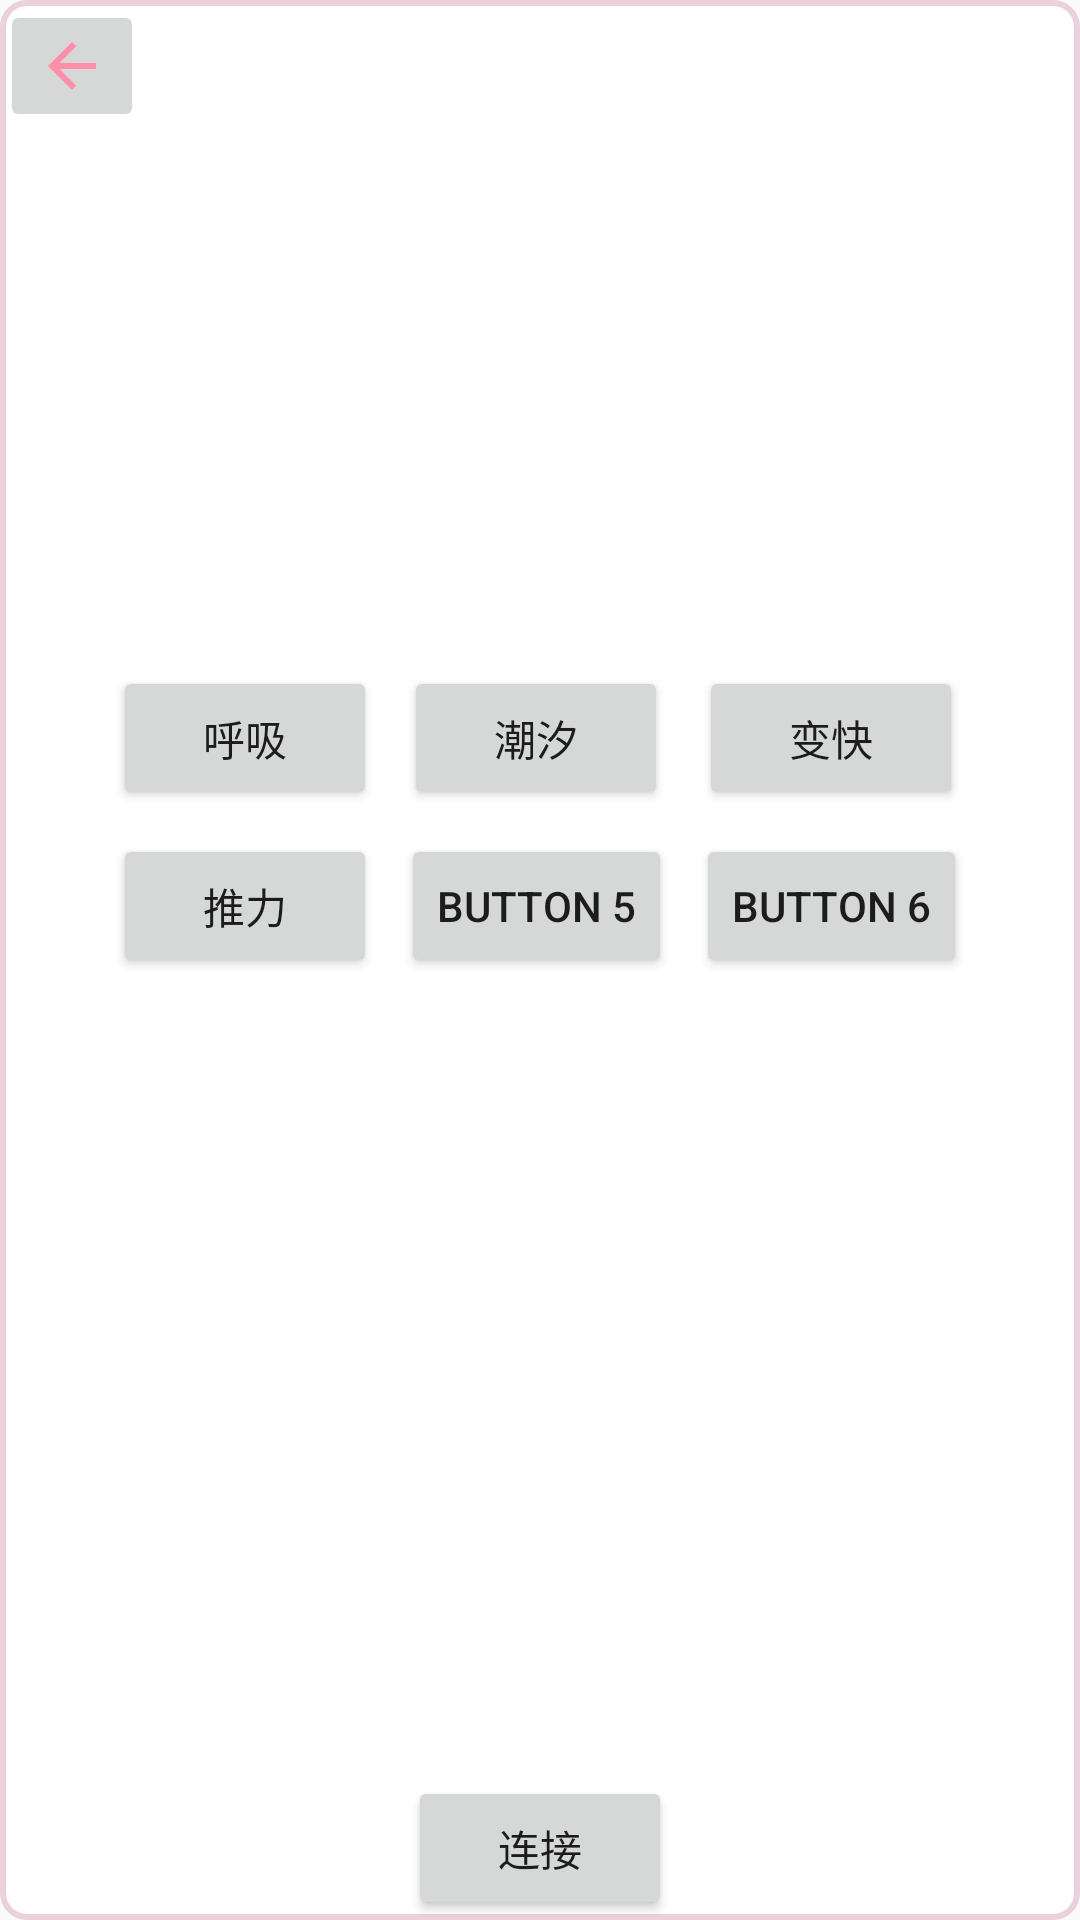

Screen size 1080px×1920px. Icon name, then its box in pixels as (x1, y1, x2, y2):
arrow back: (12, 18, 132, 114)
